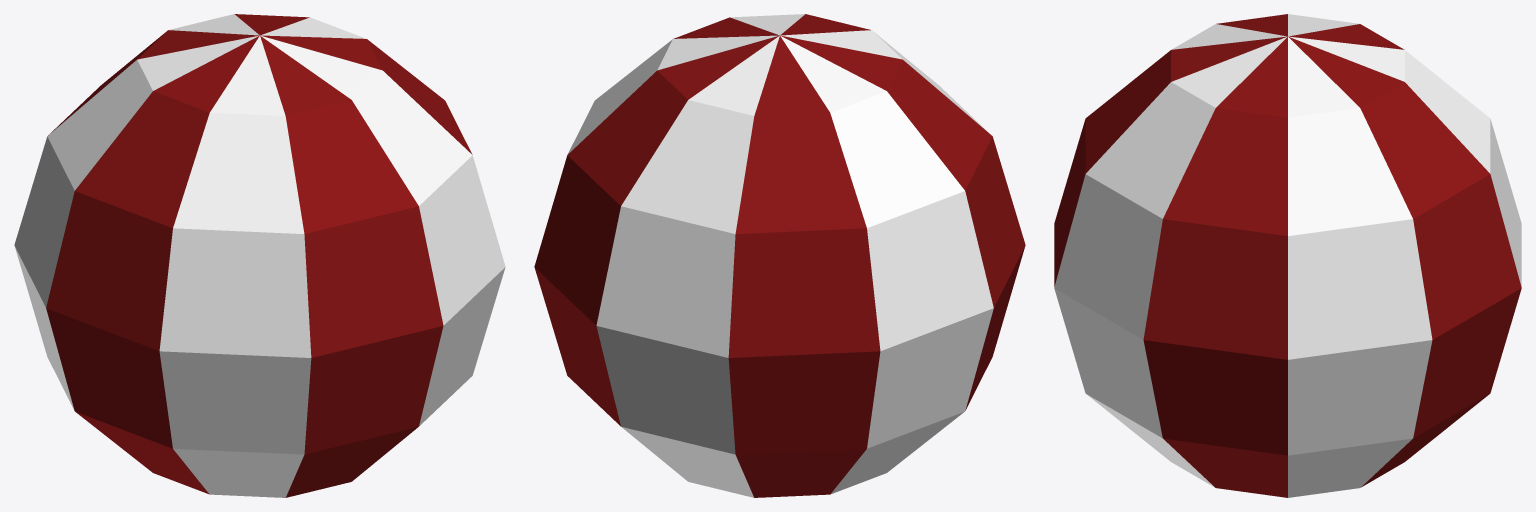
File: ball.obj
The picture shows the model from 3 angles, left to right: view 1: azimuth 30°, elevation 25°; view 2: azimuth 150°, elevation 25°; view 3: azimuth 270°, elevation 25°; orthographic projection.
Parts seen in each view (by area): view 1: pSphere1; view 2: pSphere1; view 3: pSphere1.
Boxes of the visible parts, x1,y1,x2,y2 form: pSphere1: (14,14,505,497); pSphere1: (534,14,1025,497); pSphere1: (1054,14,1521,497).
Size of the model in its own units: 4.4 by 4.33 by 4.18.
